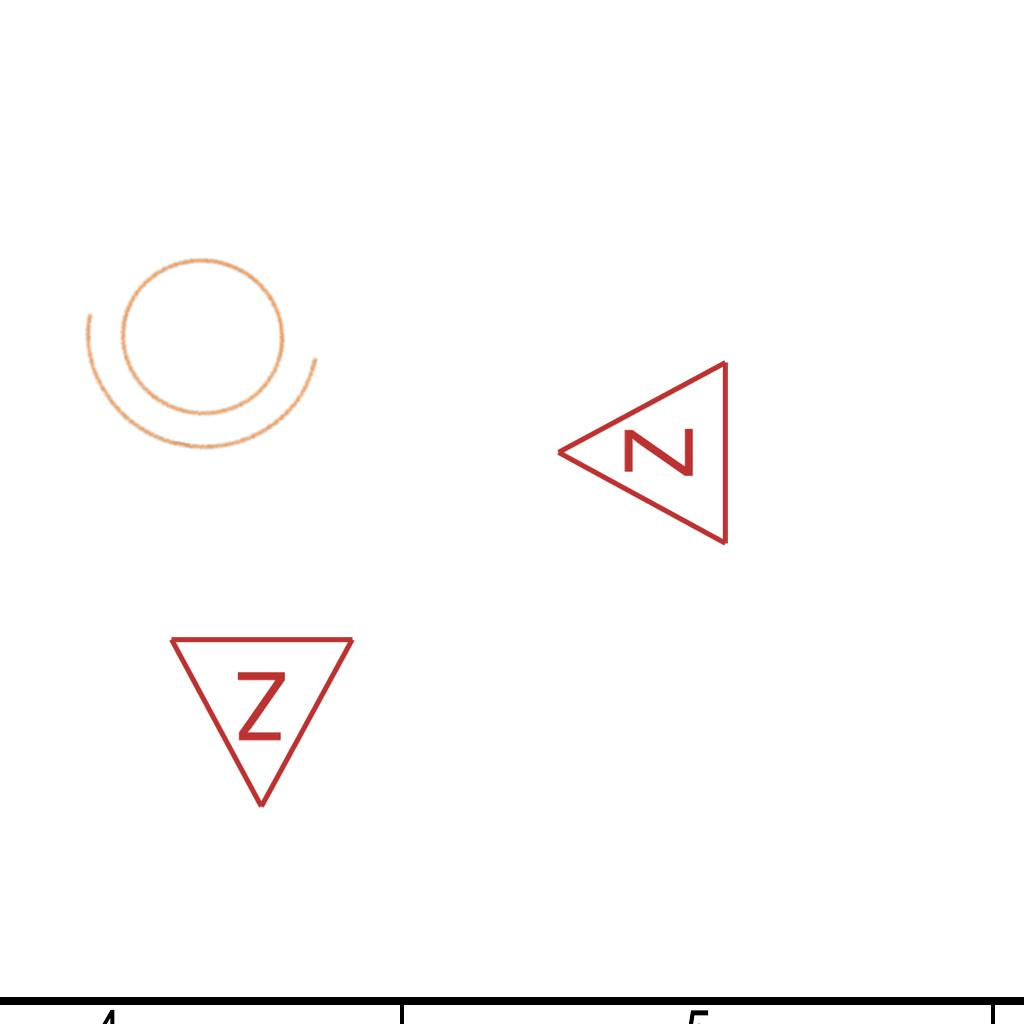Scheinwerfer_fuer_Alarmbeleuchtung: (55, 211, 359, 484)
Zimmersignalleuchte: (543, 357, 743, 553), (166, 622, 362, 822)
